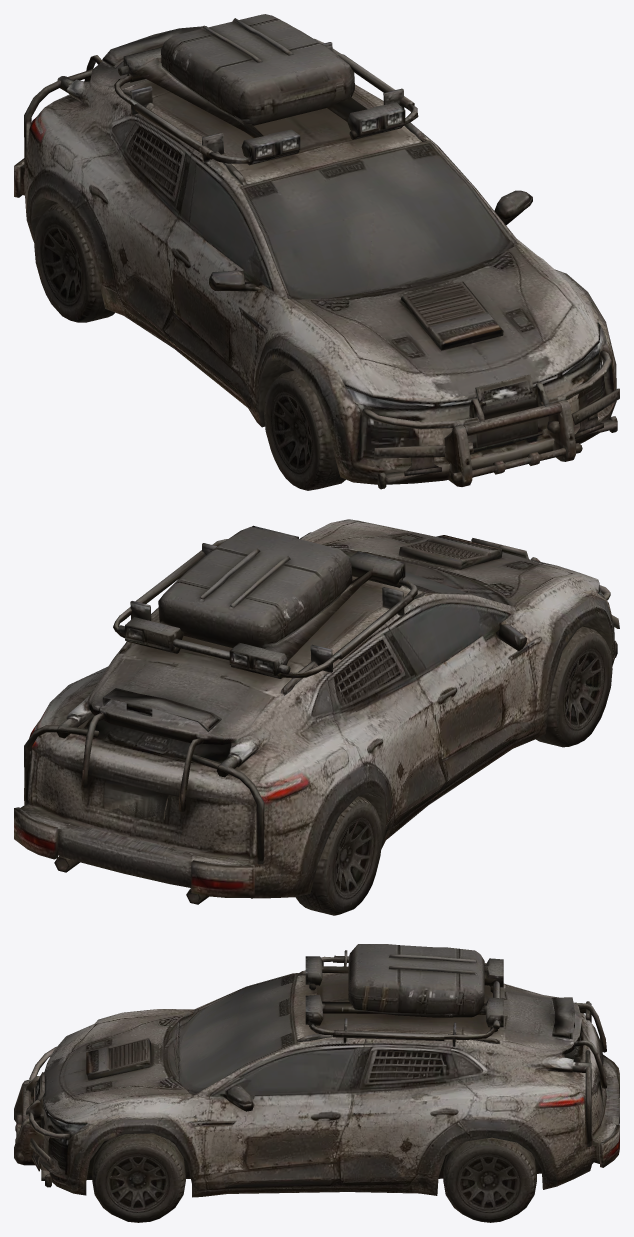
File: suv_realistic.glb
3 views of the same model, one above another, from view 1: azimuth 30°, elevation 25°; view 2: azimuth 150°, elevation 25°; view 3: azimuth 270°, elevation 25° (orthographic). The views are drawn at different scales.
Visible parts, largest first — view 1: tripo_node_9301d9ee-a00e-4a60-ae3b-6c43355d8520; view 2: tripo_node_9301d9ee-a00e-4a60-ae3b-6c43355d8520; view 3: tripo_node_9301d9ee-a00e-4a60-ae3b-6c43355d8520.
Boxes of the visible parts, <box> form: tripo_node_9301d9ee-a00e-4a60-ae3b-6c43355d8520: <box>14,14,619,490</box>; tripo_node_9301d9ee-a00e-4a60-ae3b-6c43355d8520: <box>14,519,619,915</box>; tripo_node_9301d9ee-a00e-4a60-ae3b-6c43355d8520: <box>14,944,619,1222</box>.
Bounding box in the file's own units: 0.4629 × 0.3848 × 0.998.
1 material, 1 textured.
